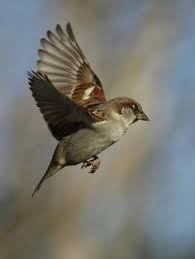hsparrow: (22, 20, 153, 208)
